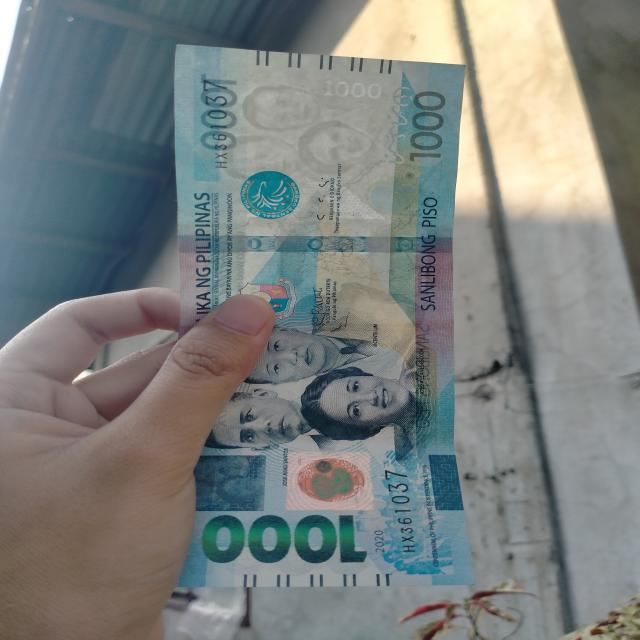concealed_value: (193, 455, 264, 511)
optically_variable_device: (285, 452, 372, 509)
security_thread: (178, 236, 452, 253)
see_through_mark: (382, 83, 415, 166)
serial_number: (383, 469, 418, 554)
value_watermark: (322, 79, 383, 100)
watermark: (221, 81, 379, 179)
